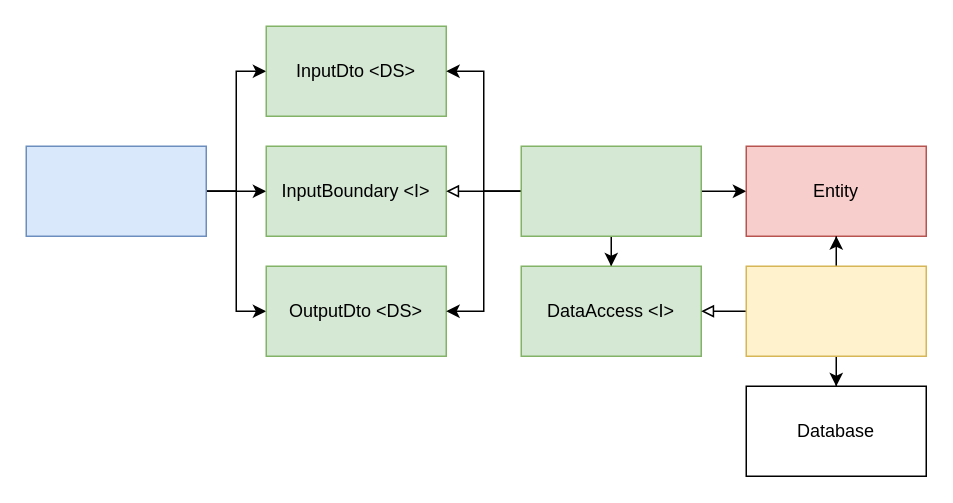
Some shapes in this 953 by 503 pixel diagram are drawn without their labels. Each missing label, with the centre of its shape:
"Controller" goes at (x=115, y=190).
"Repository" goes at (x=835, y=310).
"UseCase" goes at (x=610, y=190).
